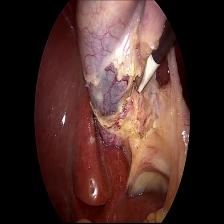Hook: (133, 49, 159, 97)
